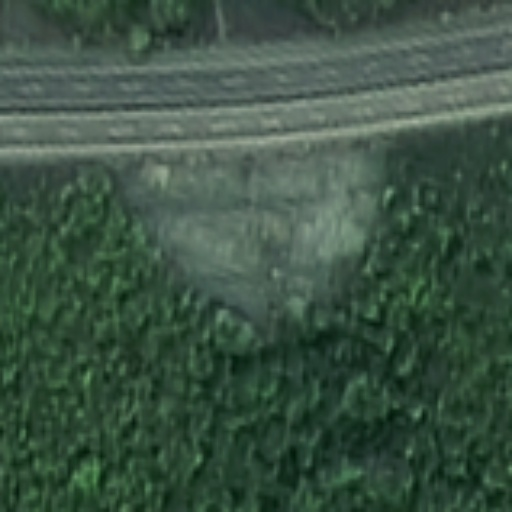landslide: (109, 150, 399, 310)
